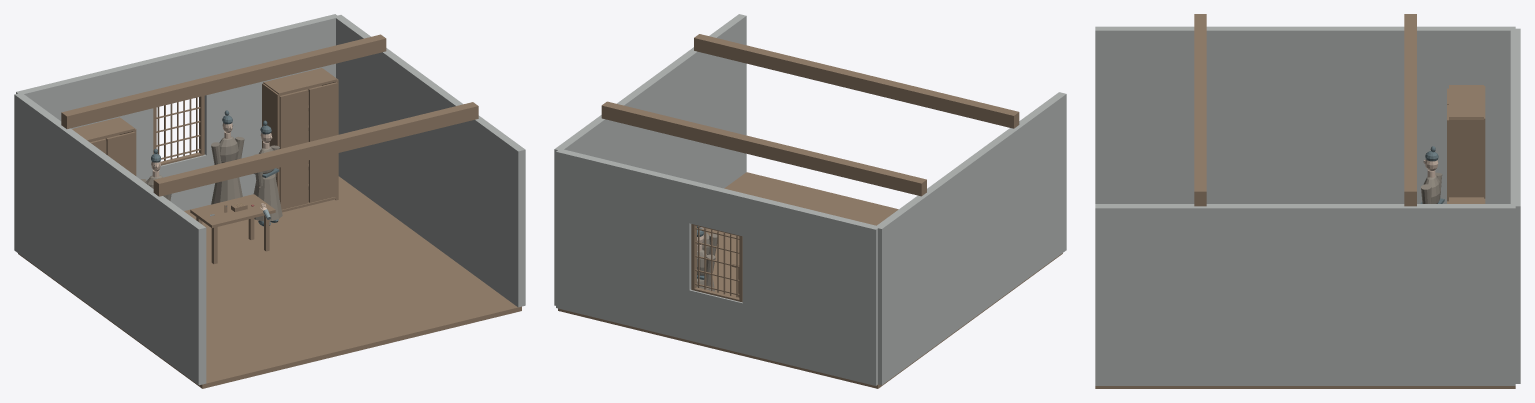
3 renders of one model, left to right at view 1: azimuth 30°, elevation 25°; view 2: azimuth 150°, elevation 25°; view 3: azimuth 270°, elevation 25°, orthographic. The views are drawn at different scales.
Visible parts, largest first — view 1: wall (×6), floor (×4), beam (×2), door (×3), shelf (×2), tabletop, robe_skirt (×2), side; view 2: wall (×6), beam (×2), floor (×3); view 3: wall (×4), beam (×2), side, floor (×2), shelf.
Boxes of the visible parts, x1,y1,x2,y2 form: wall (×6): (14, 14, 525, 385); floor (×4): (18, 176, 521, 388); beam (×2): (61, 34, 478, 196); door (×3): (106, 82, 337, 209); shelf (×2): (72, 68, 337, 141); tabletop: (190, 194, 275, 227); robe_skirt (×2): (211, 174, 282, 221); side: (262, 83, 280, 197); wall (×6): (554, 14, 1066, 385); beam (×2): (601, 34, 1019, 196); floor (×3): (558, 172, 970, 388); wall (×4): (1095, 26, 1520, 385); beam (×2): (1194, 14, 1416, 206); side: (1449, 118, 1483, 197); floor (×2): (1095, 386, 1515, 388); shelf: (1449, 85, 1483, 118).
Bounding box in the file's own units: 6.14 × 3.11 × 6.07.
